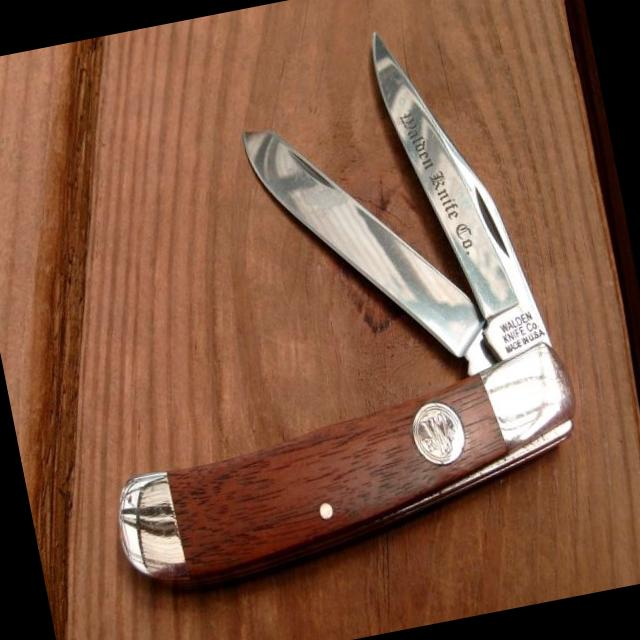Knife: (119, 35, 574, 587)
